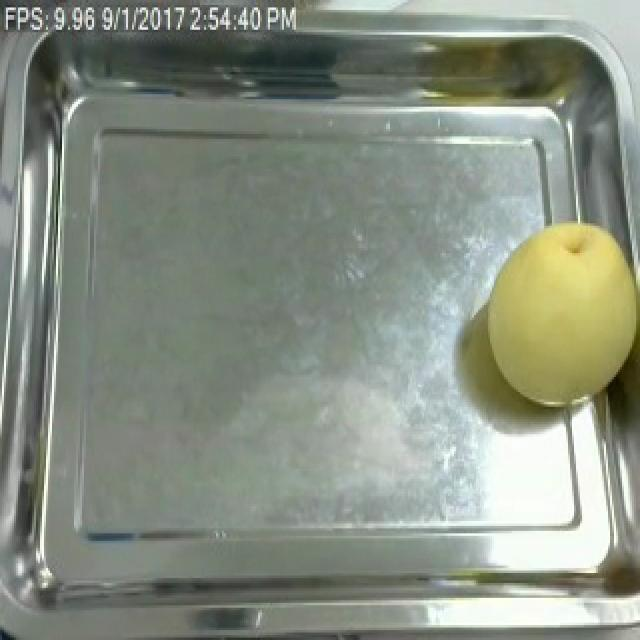Fruit: (474, 206, 640, 417)
